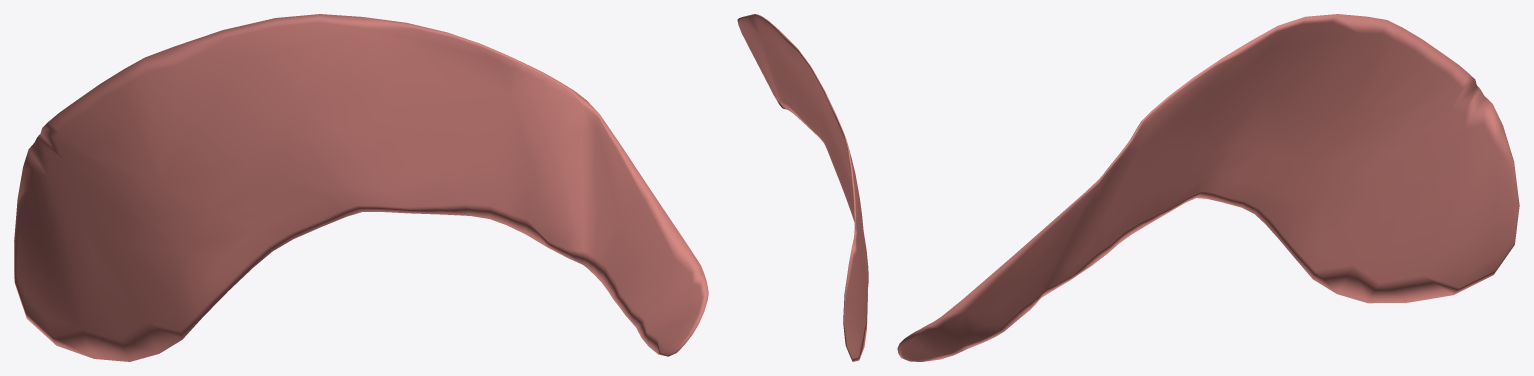
The picture shows the model from 3 angles, left to right: view 1: azimuth 30°, elevation 25°; view 2: azimuth 150°, elevation 25°; view 3: azimuth 270°, elevation 25°; orthographic projection. The views are drawn at different scales.
Parts seen in each view (by area): view 1: ZA_b79e83ac758c1496; view 2: ZA_b79e83ac758c1496; view 3: ZA_b79e83ac758c1496.
Part boxes in pixels (x1,y1,x2,y2): ZA_b79e83ac758c1496: (14,14,708,361); ZA_b79e83ac758c1496: (737,14,868,361); ZA_b79e83ac758c1496: (897,14,1519,361).
Size of the model in its own units: 0.0662 by 0.0552 by 0.0872.
